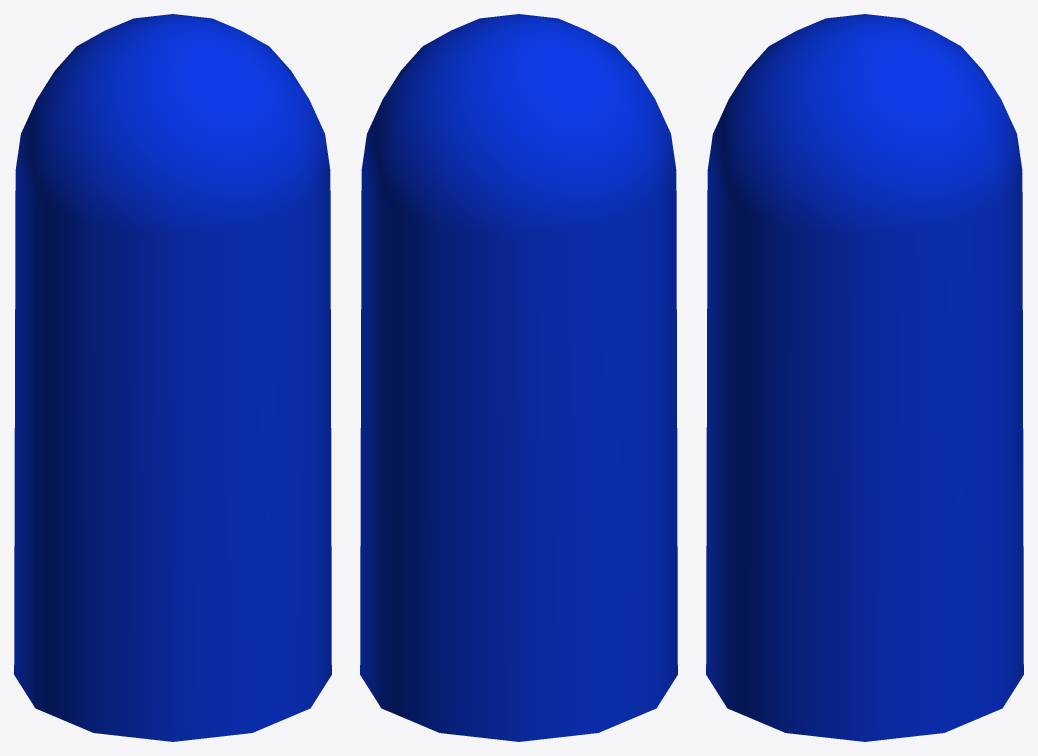
The model's file is Cage_02B_Lod0.fbx.
3 views of the same model, side by side, from view 1: azimuth 30°, elevation 25°; view 2: azimuth 150°, elevation 25°; view 3: azimuth 270°, elevation 25° (orthographic).
Visible parts, largest first — view 1: Cage_02B_Lod0; view 2: Cage_02B_Lod0; view 3: Cage_02B_Lod0.
Boxes of the visible parts, left/top/right/bottom form: Cage_02B_Lod0: left=14, top=14, right=331, bottom=741; Cage_02B_Lod0: left=360, top=14, right=677, bottom=741; Cage_02B_Lod0: left=706, top=14, right=1023, bottom=741.
Size of the model in its own units: 53.85 by 121 by 53.85.
